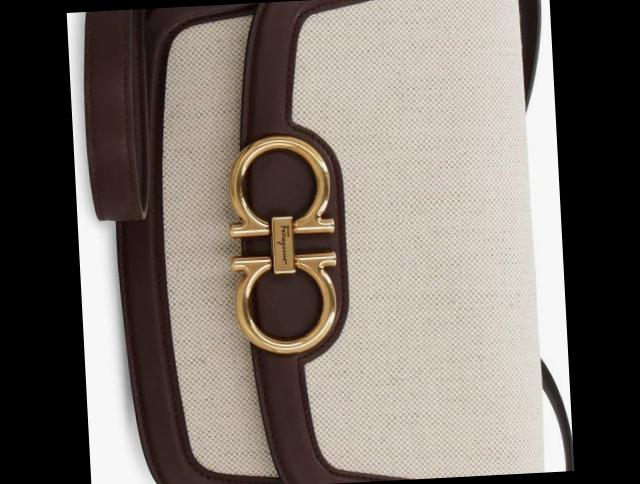FERRAGAMO: (215, 121, 372, 370)
